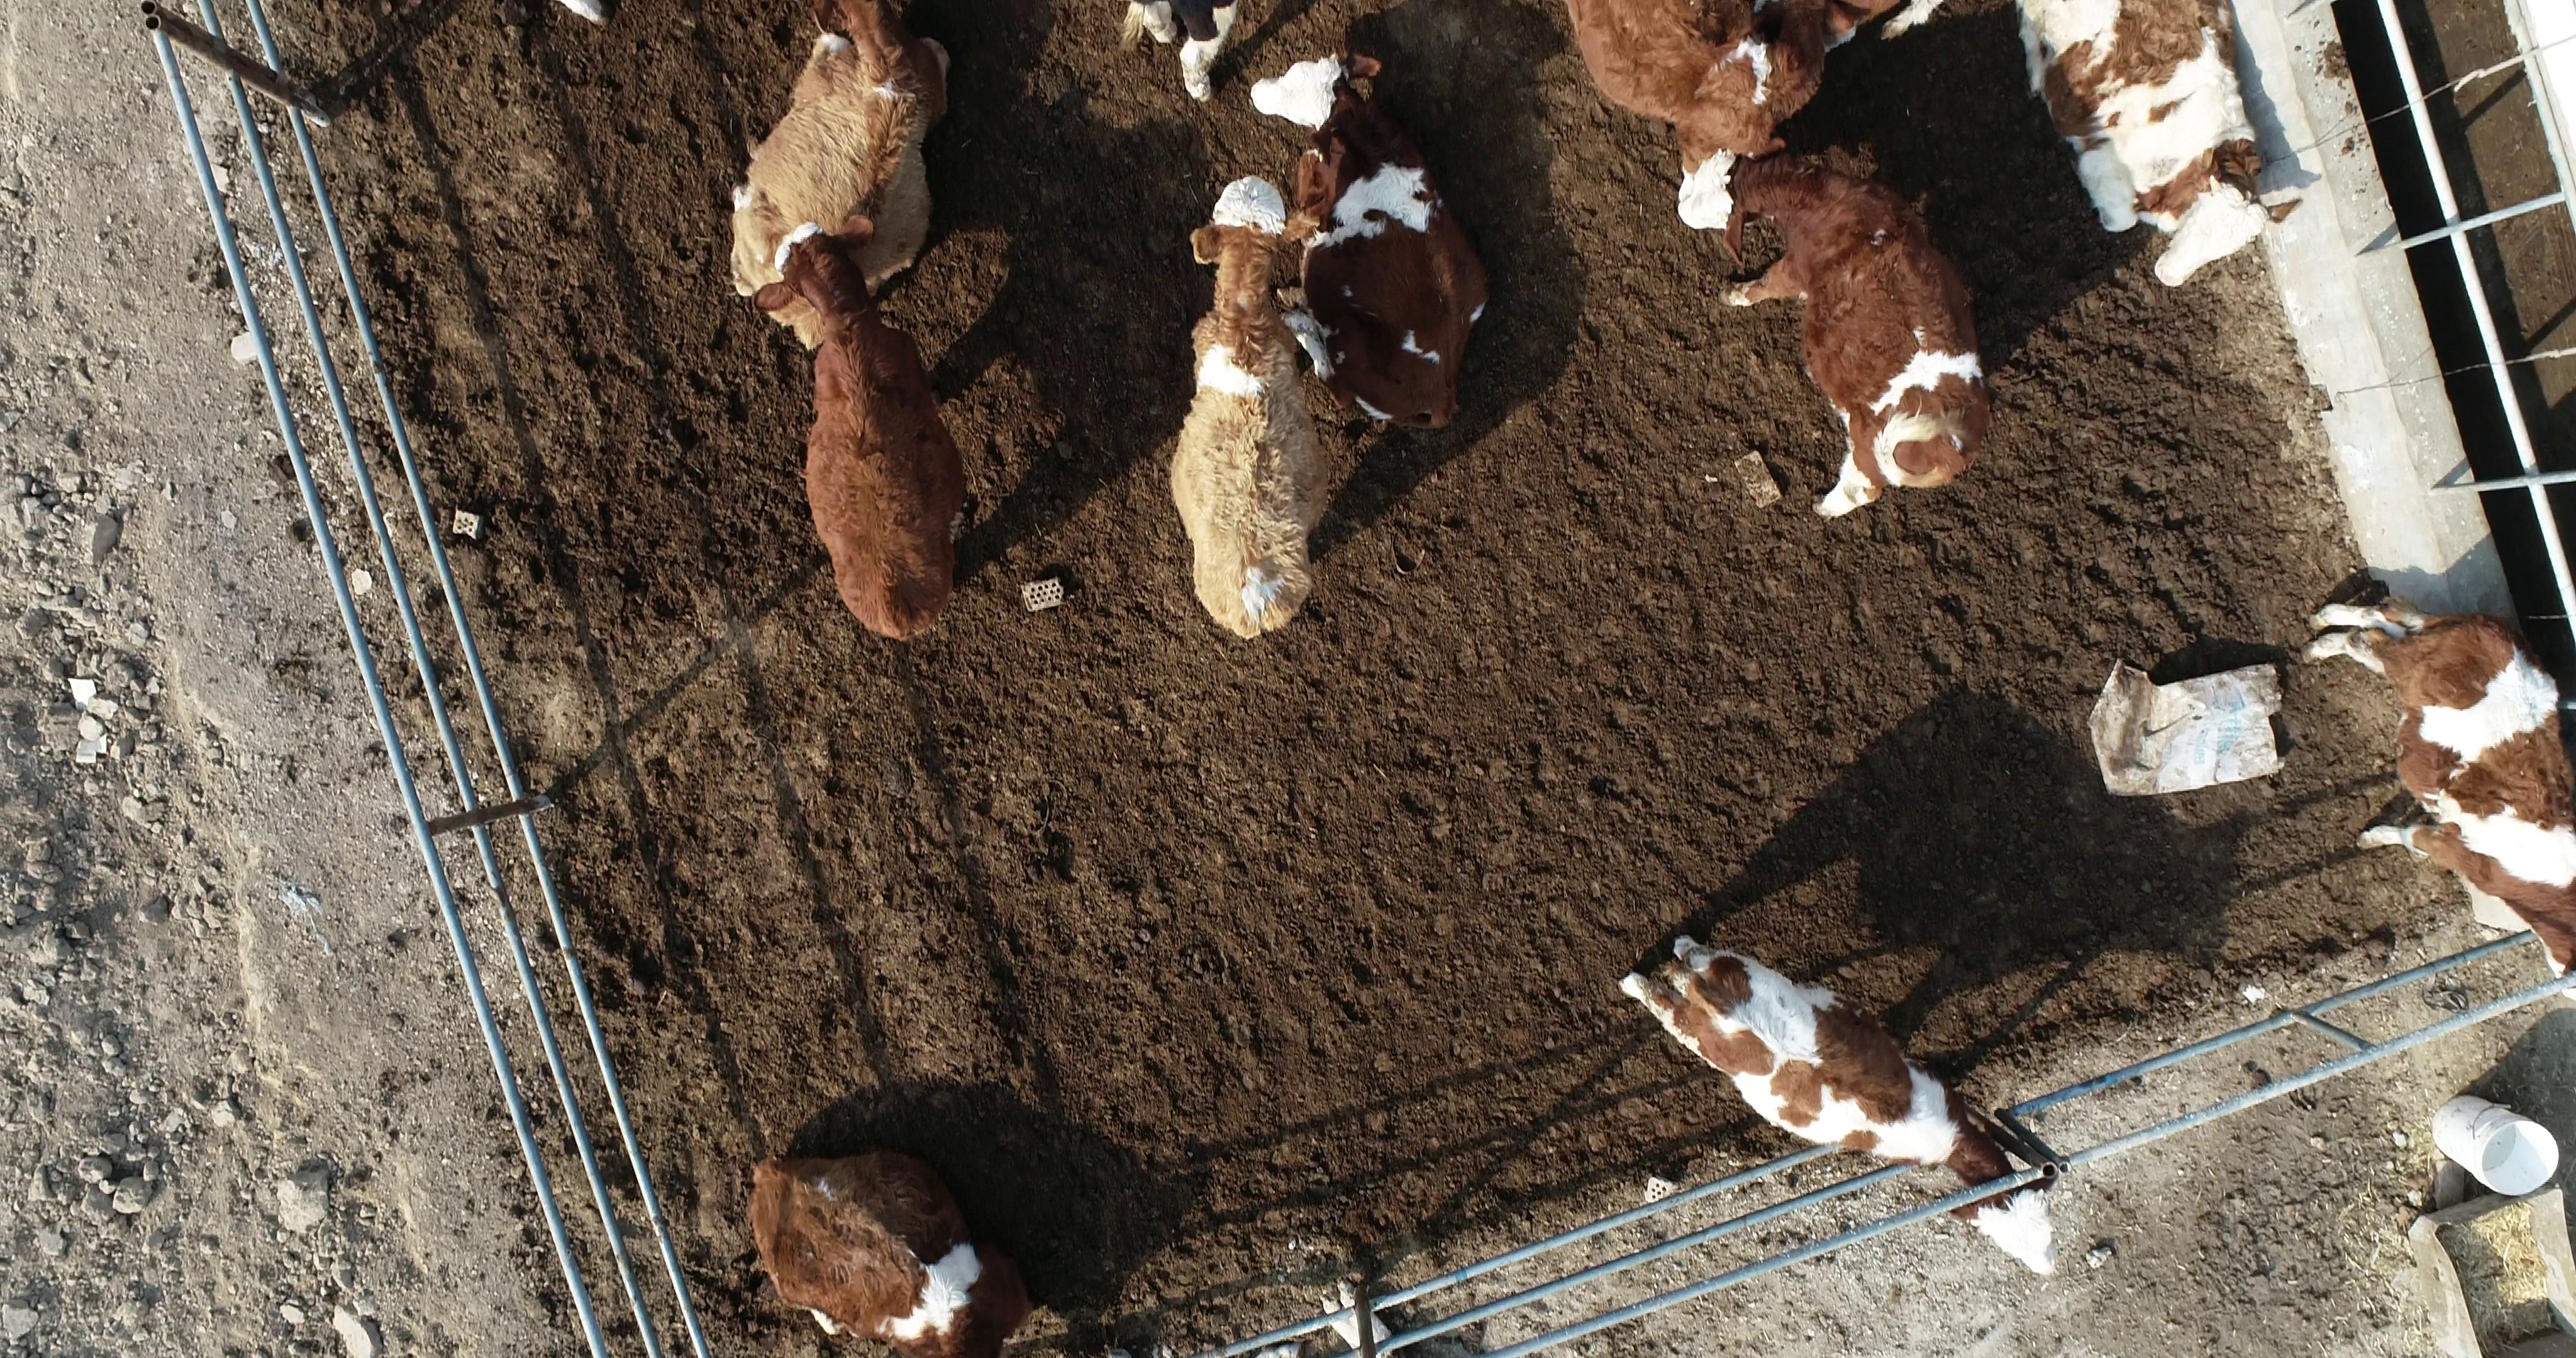cattle: (1605, 927, 2068, 1297), (1675, 143, 1997, 523), (756, 222, 976, 646), (1160, 170, 1341, 644)
